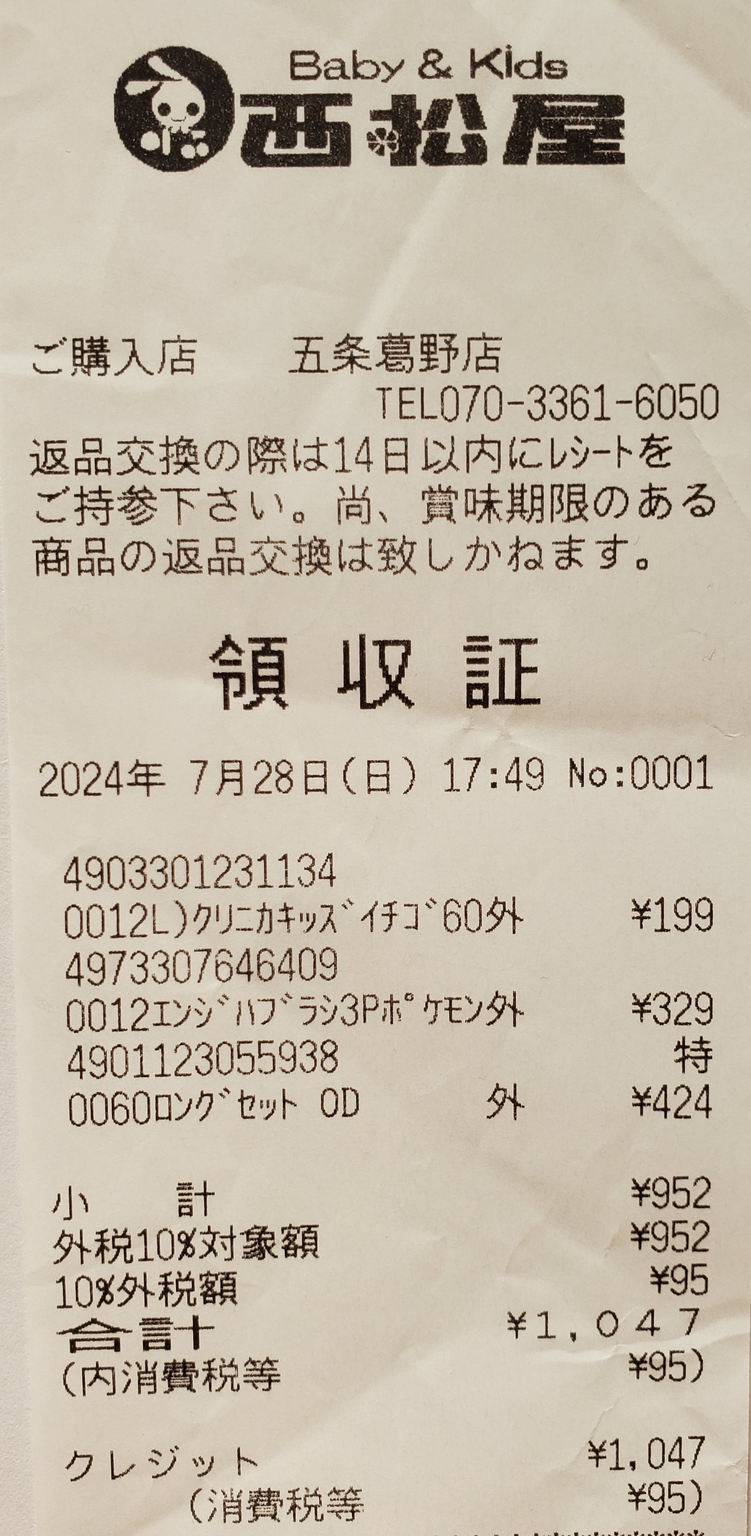Date: (27, 745, 341, 808)
Shopname: (238, 80, 654, 190)
Telnum: (436, 375, 726, 430)
Totalpay: (47, 1310, 709, 1354)
